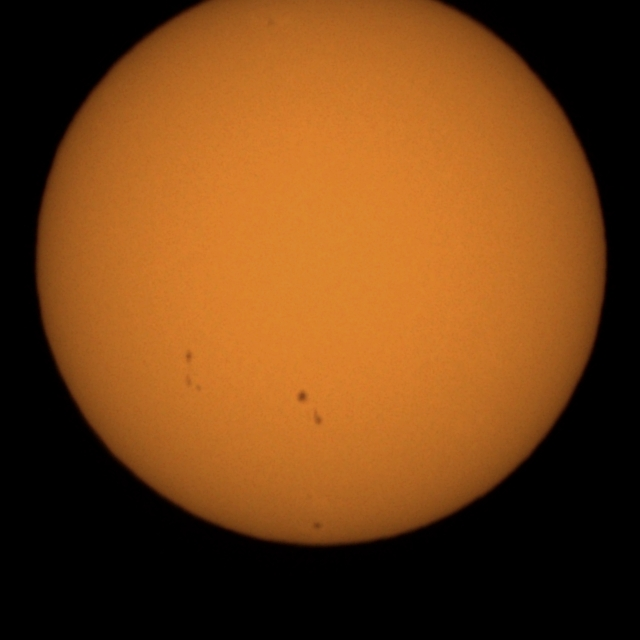sunspot: (295, 390, 323, 427), (184, 372, 203, 394), (295, 388, 310, 406), (312, 411, 324, 428), (183, 348, 194, 365), (312, 520, 324, 532)
